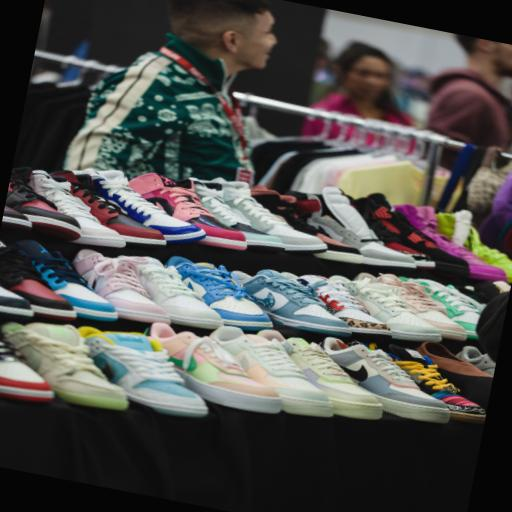shoe: (149, 324, 280, 413), (78, 327, 207, 417), (210, 326, 332, 417), (321, 337, 449, 423), (258, 330, 381, 419), (2, 323, 127, 410), (73, 169, 204, 243), (129, 173, 246, 250), (307, 187, 415, 269), (211, 177, 326, 253), (50, 171, 165, 247), (366, 193, 468, 277), (395, 205, 505, 281), (14, 240, 116, 321), (232, 270, 350, 337), (166, 256, 271, 330), (388, 345, 485, 423), (257, 191, 362, 263), (356, 273, 465, 341), (329, 275, 441, 341), (29, 170, 124, 247), (72, 250, 169, 322), (281, 272, 390, 335), (128, 257, 222, 329), (193, 180, 284, 251), (347, 196, 434, 269), (0, 241, 76, 321), (436, 210, 511, 283), (5, 167, 80, 240), (415, 342, 492, 410), (408, 279, 479, 339), (0, 332, 53, 402), (465, 226, 511, 283), (452, 281, 509, 312), (434, 210, 472, 246), (456, 346, 495, 376), (0, 286, 32, 317), (1, 205, 31, 229), (498, 219, 511, 255)
